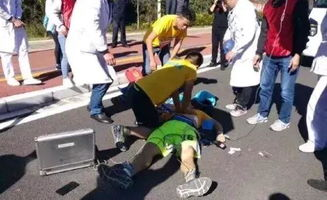10+: (1, 1, 327, 160)
down: (97, 90, 221, 197)
